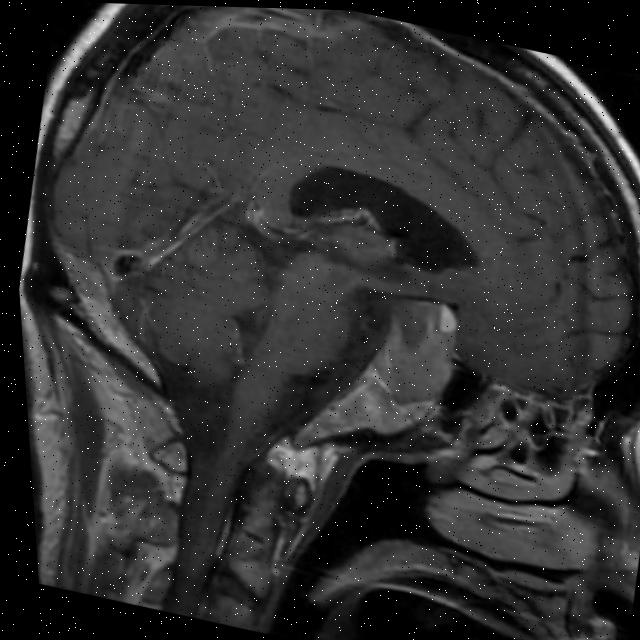Pituitary: (361, 290, 470, 413)
